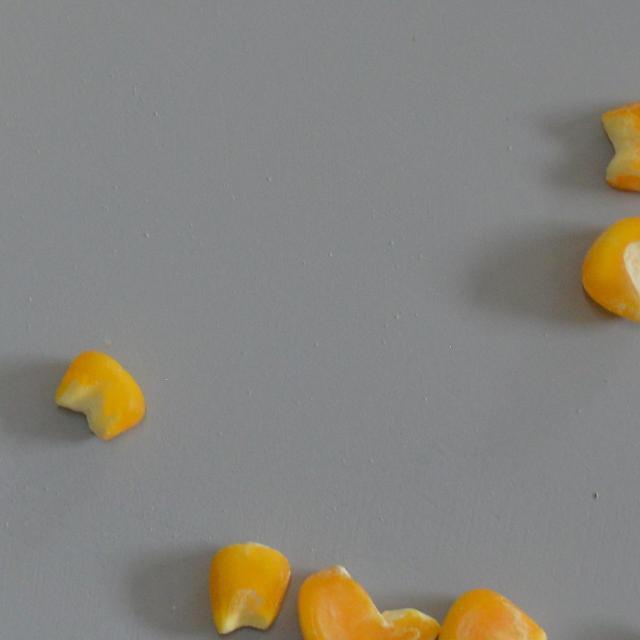dañado: (292, 562, 441, 640), (52, 345, 145, 442), (206, 540, 292, 637), (576, 214, 640, 328), (432, 584, 551, 640), (594, 96, 640, 198)
